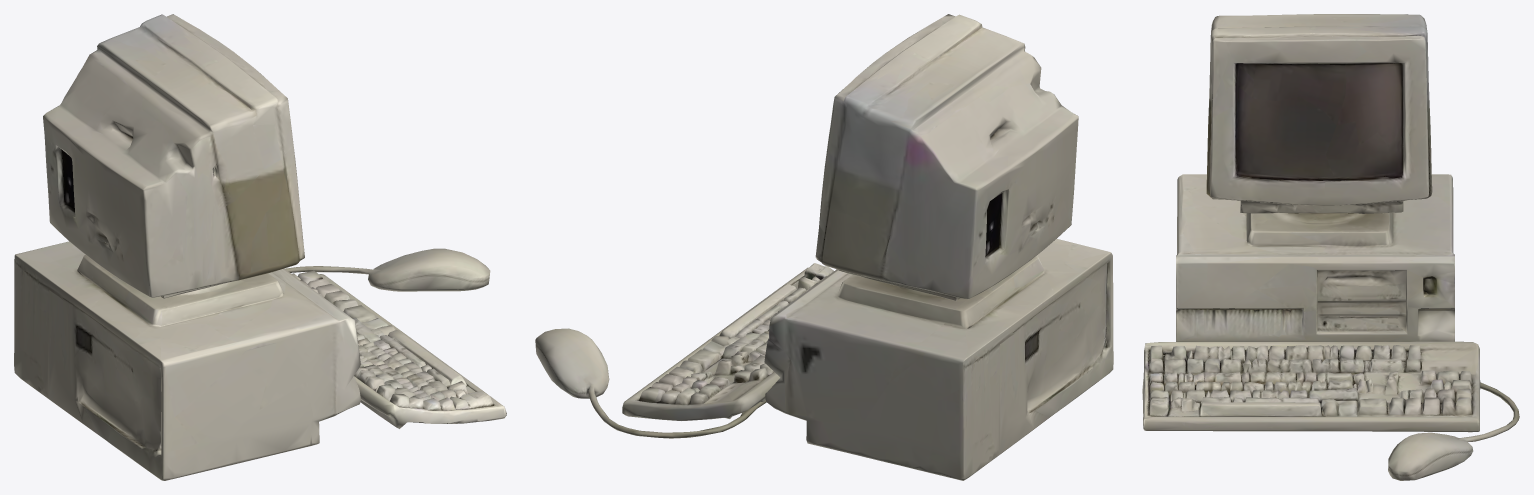
The picture shows the model from 3 angles, left to right: view 1: azimuth 30°, elevation 25°; view 2: azimuth 150°, elevation 25°; view 3: azimuth 270°, elevation 25°; orthographic projection. The views are drawn at different scales.
Parts seen in each view (by area): view 1: tripo_node_5800d044-2bd2-488f-bfd8-0f79c9669a4f; view 2: tripo_node_5800d044-2bd2-488f-bfd8-0f79c9669a4f; view 3: tripo_node_5800d044-2bd2-488f-bfd8-0f79c9669a4f.
Part boxes in pixels (box(x1,y1,x2,y2)): tripo_node_5800d044-2bd2-488f-bfd8-0f79c9669a4f: box(14, 14, 506, 480); tripo_node_5800d044-2bd2-488f-bfd8-0f79c9669a4f: box(535, 14, 1113, 480); tripo_node_5800d044-2bd2-488f-bfd8-0f79c9669a4f: box(1142, 14, 1519, 480).
Bounding box in the file's own units: 1 × 0.7285 × 0.7904.
Materials: 1 (1 with a texture image).
